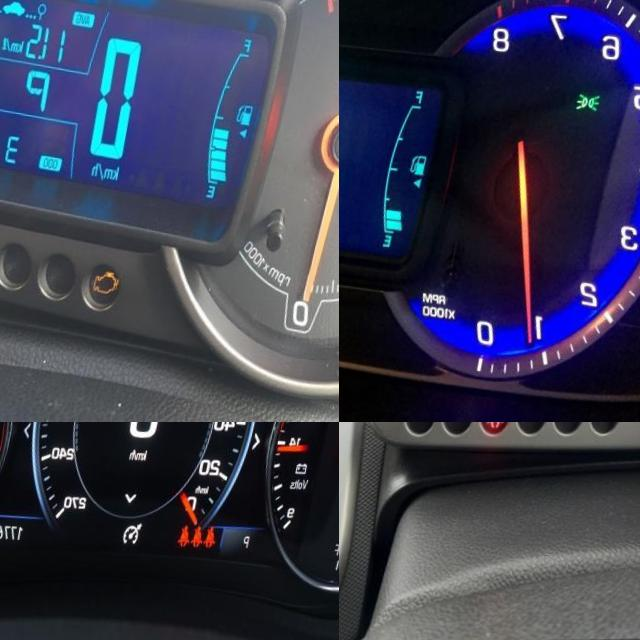SideLamp: (584, 82, 610, 101)
